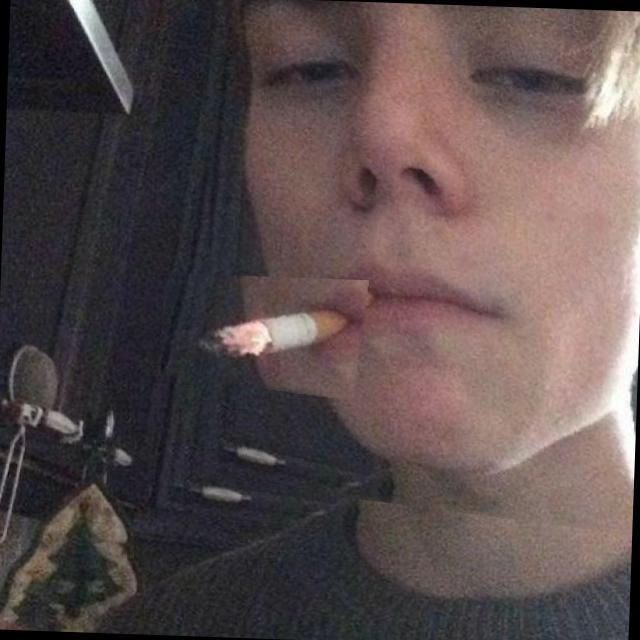cigarette: (160, 272, 370, 400)
